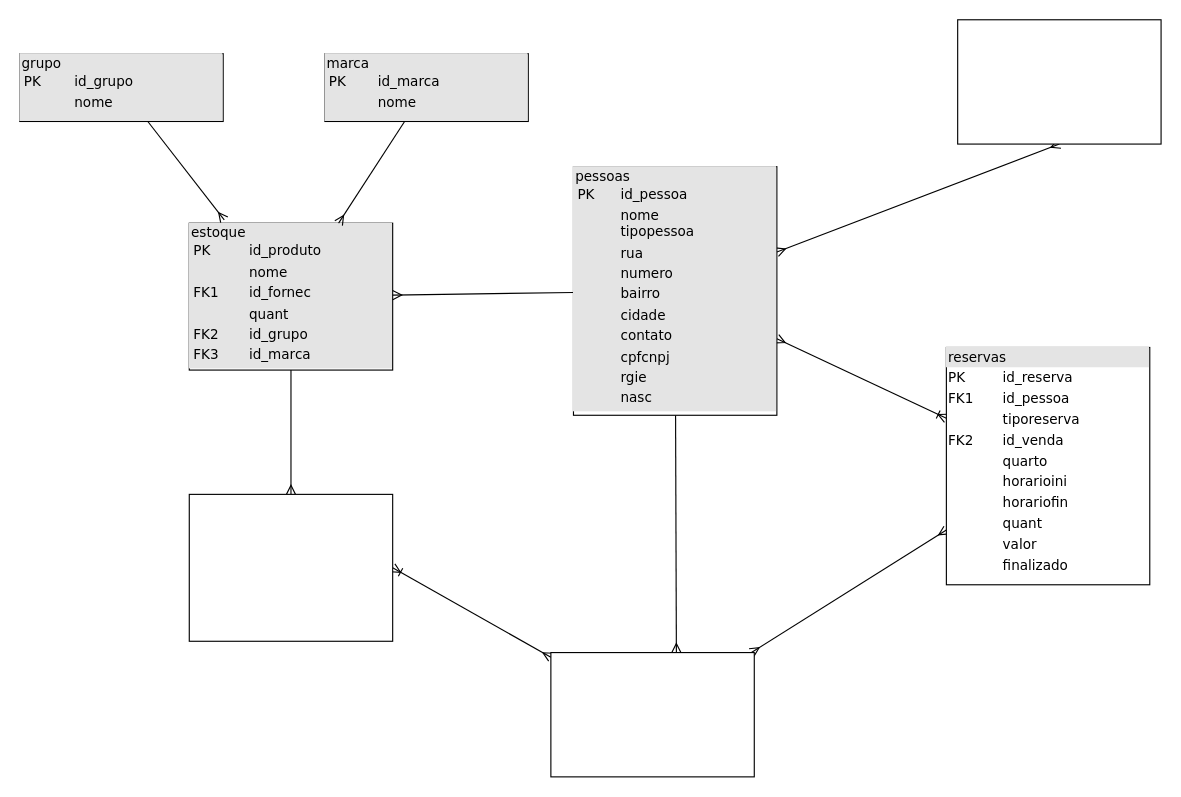
Some shapes in this 1181 by 797 pixel diagram are drawn without their labels. The shapes that lost their labels are listed below. From the top down, each one's box as (x1, y1, x2, y2) in pixels, then its label:
(957, 19, 1161, 144): usuarios PK id_usuario FK1 id_pessoa nome email senha
(188, 493, 393, 641): itensvenda PK id_item FK1 id_venda nome quant precounid precototal
(550, 651, 754, 777): vendas PK id_venda FK1 id_cliente FK2 id_vendedor tipovenda total
